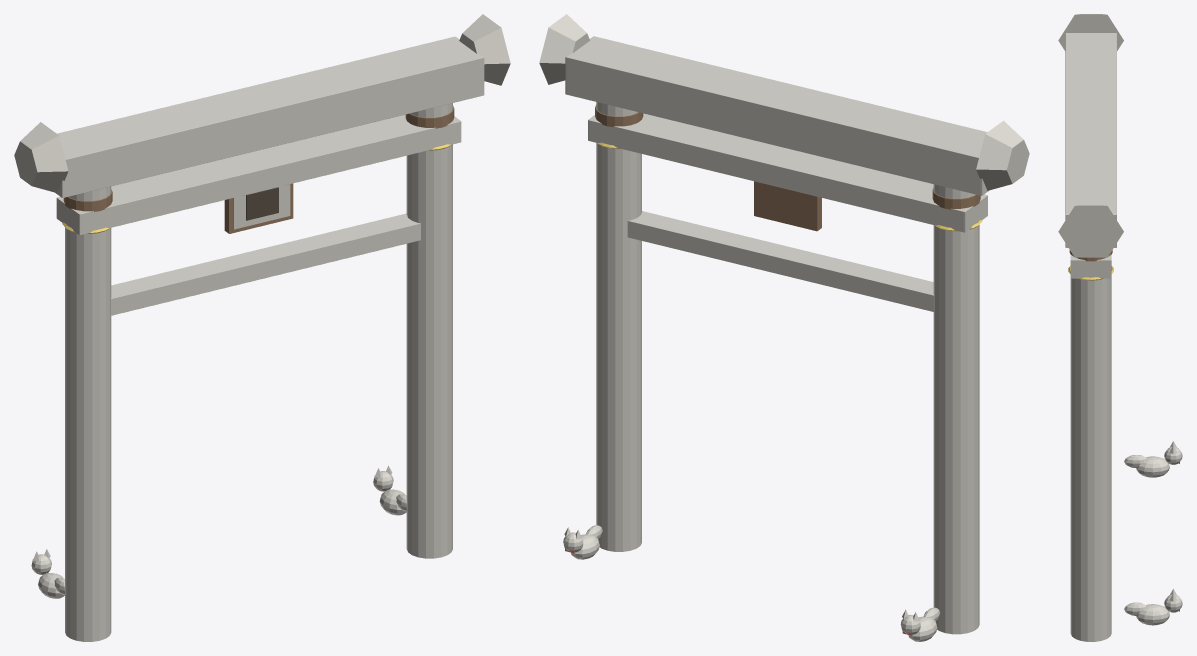
Rendered from torii_white.glb.
3 views of the same model, side by side, from view 1: azimuth 30°, elevation 25°; view 2: azimuth 150°, elevation 25°; view 3: azimuth 270°, elevation 25° (orthographic). The views are drawn at different scales.
Visible parts, largest first — view 1: torii_white; view 2: torii_white; view 3: torii_white.
Part boxes in pixels (x1=…): torii_white: x1=14, y1=14, x2=510, y2=641; torii_white: x1=539, y1=14, x2=1029, y2=641; torii_white: x1=1058, y1=14, x2=1182, y2=641.
Size of the model in its own units: 2.32 by 2.44 by 0.605.
